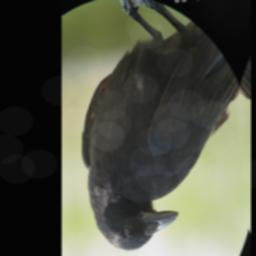Crow: (71, 0, 248, 256)
